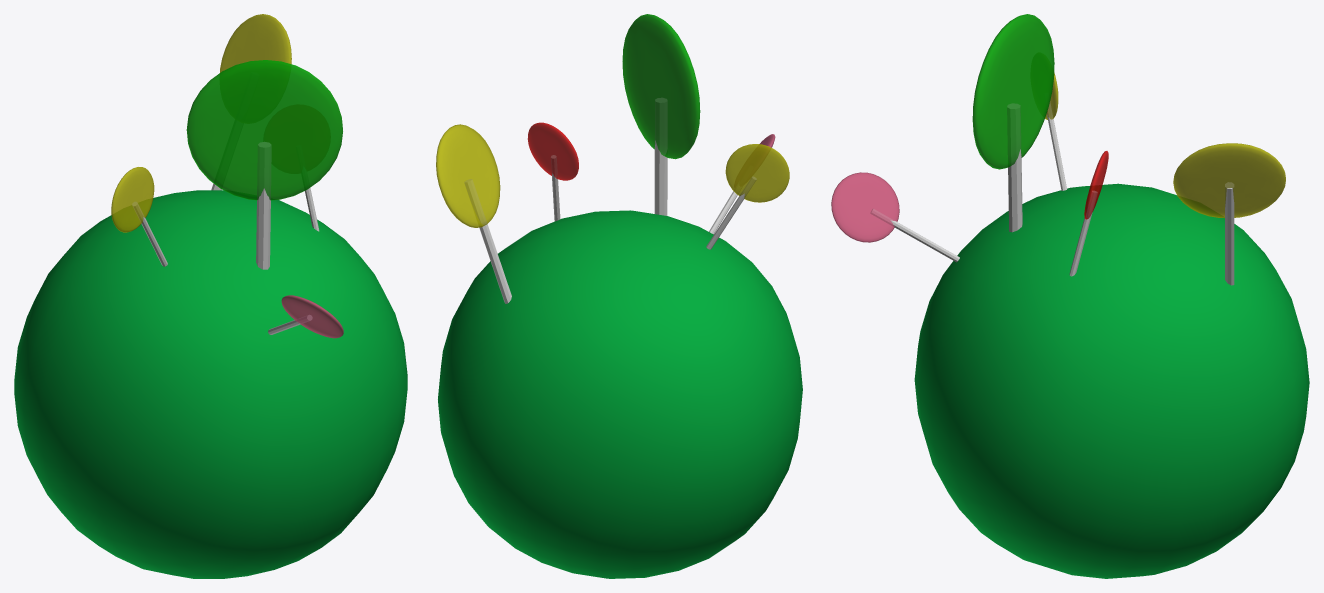
The model's file is Lolipop_Islands.fbx.
3 renders of one model, left to right at view 1: azimuth 30°, elevation 25°; view 2: azimuth 150°, elevation 25°; view 3: azimuth 270°, elevation 25°, orthographic. The views are drawn at different scales.
Parts seen in each view (by area): view 1: pCylinder67; view 2: pCylinder67; view 3: pCylinder67.
Part boxes in pixels (x1,y1,x2,y2): pCylinder67: (14,14,407,578); pCylinder67: (436,14,802,578); pCylinder67: (831,14,1309,578).
Size of the model in its own units: 40.34 by 60.94 by 48.85.
